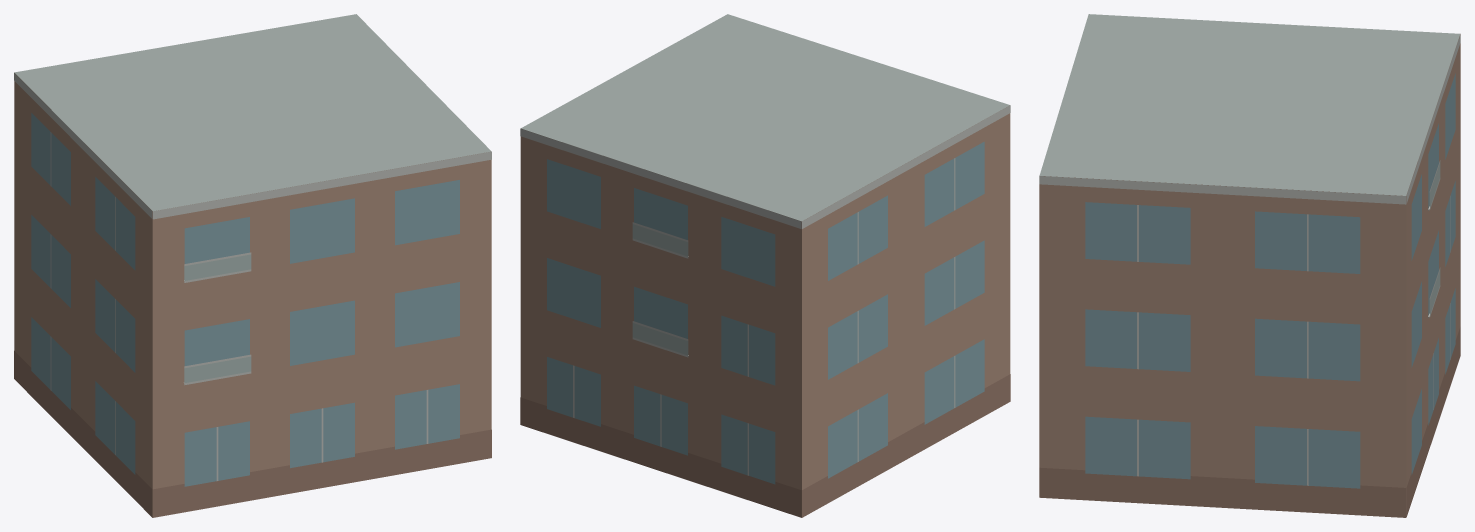
File: survey-upis-32914341.glb
The picture shows the model from 3 angles, left to right: view 1: azimuth 30°, elevation 25°; view 2: azimuth 150°, elevation 25°; view 3: azimuth 270°, elevation 25°; orthographic projection. The views are drawn at different scales.
Parts seen in each view (by area): view 1: survey-upis-32914341.tmp; view 2: survey-upis-32914341.tmp; view 3: survey-upis-32914341.tmp.
Boxes of the visible parts, bbox=[...] form: survey-upis-32914341.tmp: bbox=[14, 14, 491, 517]; survey-upis-32914341.tmp: bbox=[520, 14, 1010, 517]; survey-upis-32914341.tmp: bbox=[1039, 14, 1460, 517].
Bounding box in the file's own units: 11.1 × 9.15 × 10.86.
